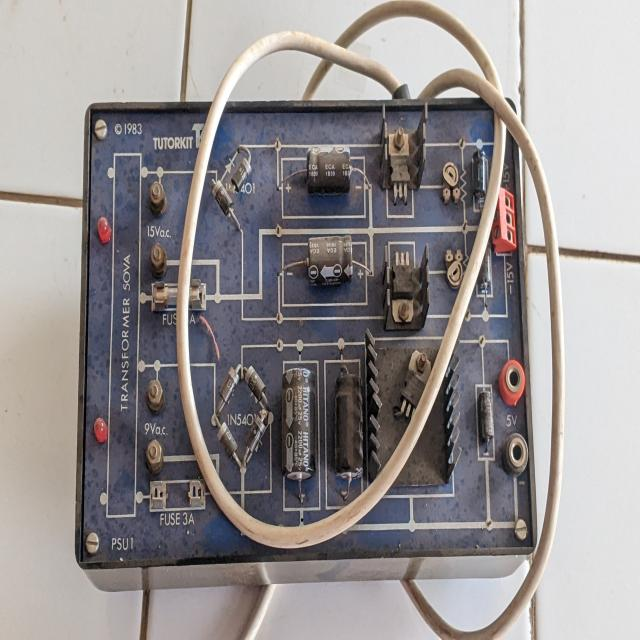Tutor Kit of Electronics: (70, 92, 546, 598)
